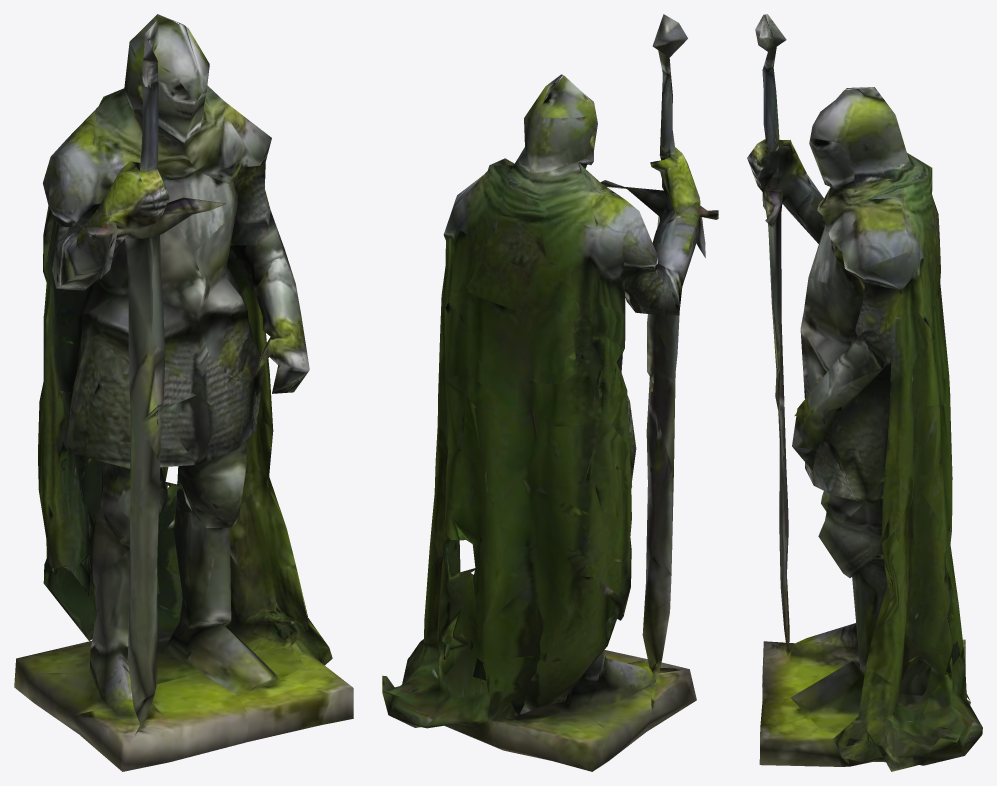
Rendered from knight-statue.lod0.glb.
The picture shows the model from 3 angles, left to right: view 1: azimuth 30°, elevation 25°; view 2: azimuth 150°, elevation 25°; view 3: azimuth 270°, elevation 25°; orthographic projection. The views are drawn at different scales.
Visible parts, largest first — view 1: Object_4; view 2: Object_4; view 3: Object_4.
Part boxes in pixels (left/top/right/bottom): Object_4: left=14, top=14, right=353, bottom=771; Object_4: left=382, top=14, right=718, bottom=771; Object_4: left=747, top=14, right=982, bottom=771.
Bounding box in the file's own units: 0.9587 × 2.39 × 0.7675.
1 material, 1 textured.
